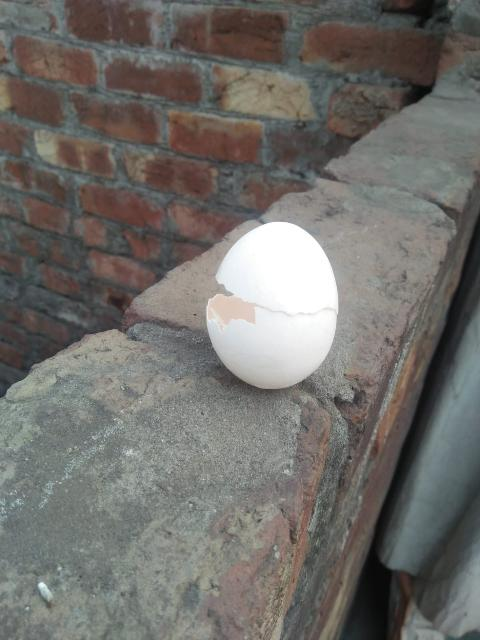Roto: (205, 220, 339, 390)
